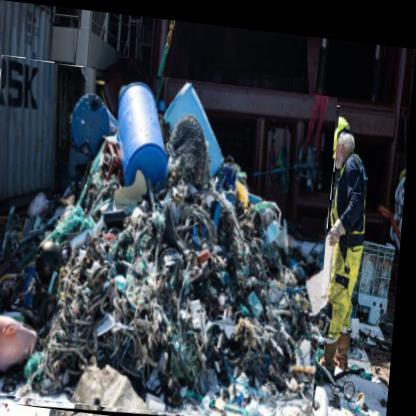Garbage: (1, 58, 341, 416)
